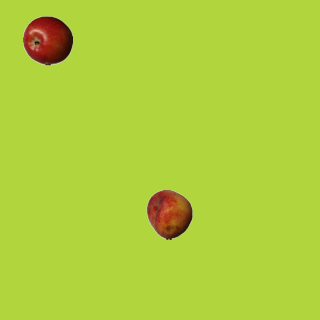Apple Braeburn: (22, 15, 72, 65)
Peach: (144, 189, 194, 239)
